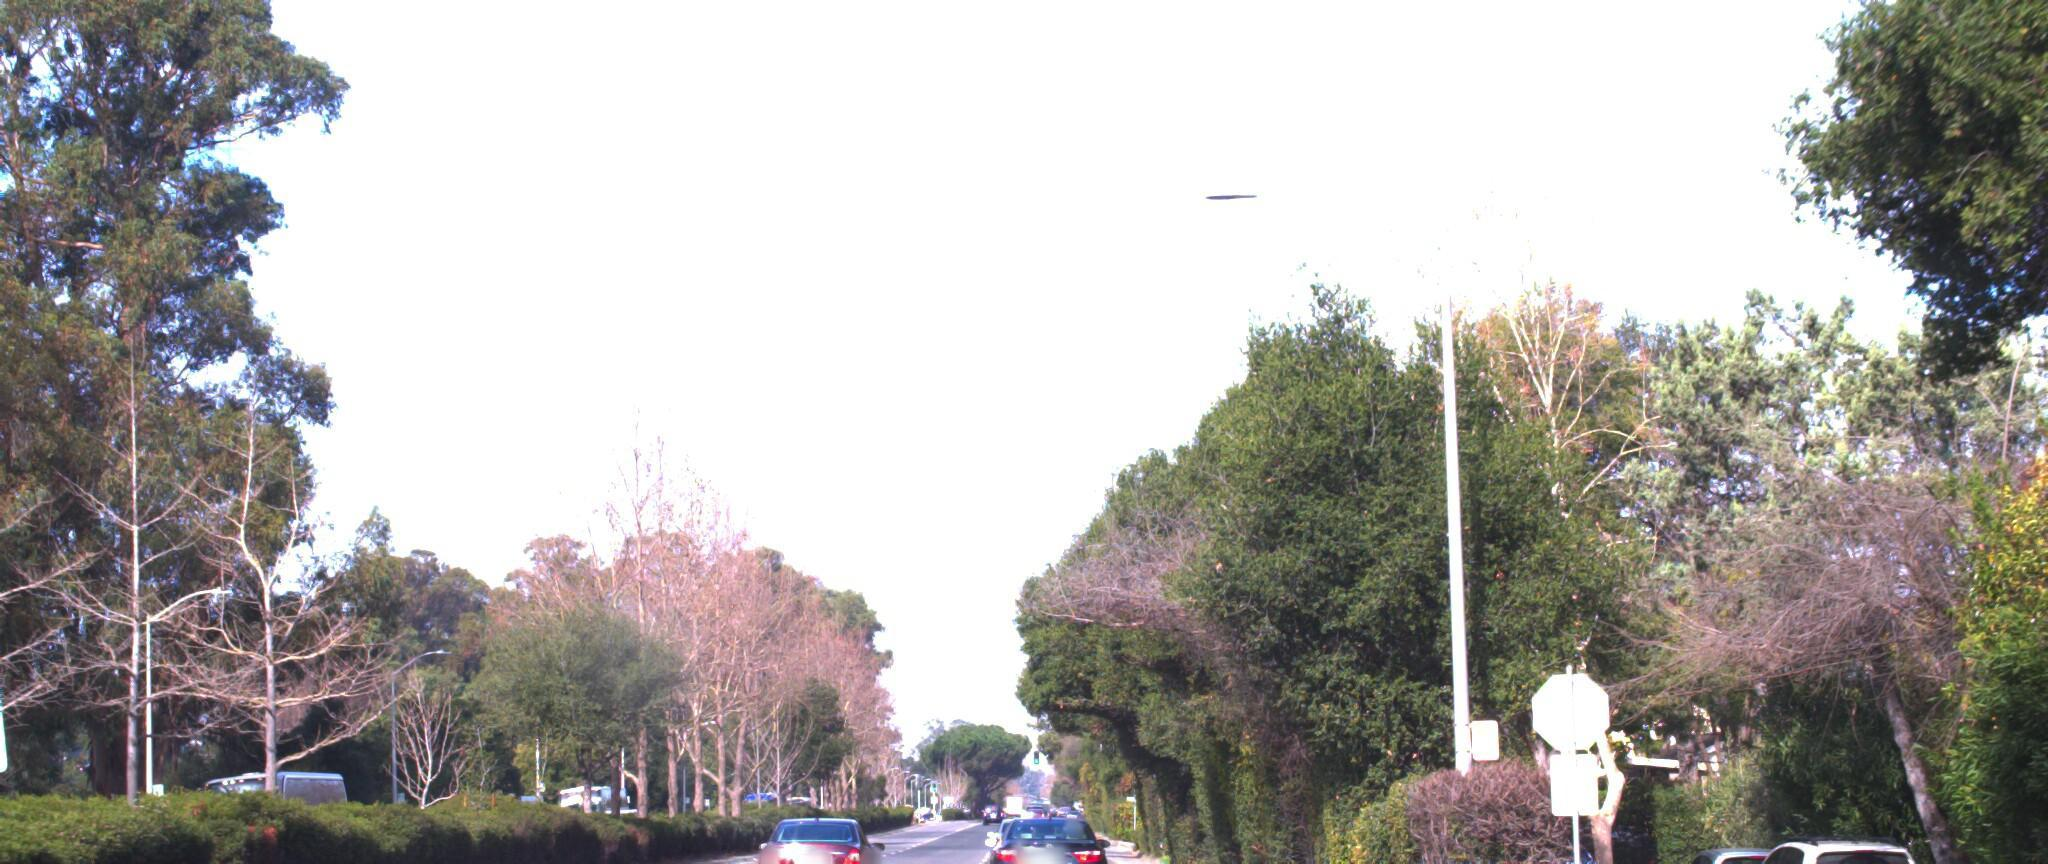car: (1695, 821, 1954, 864), (758, 797, 886, 864), (987, 794, 1104, 864)
